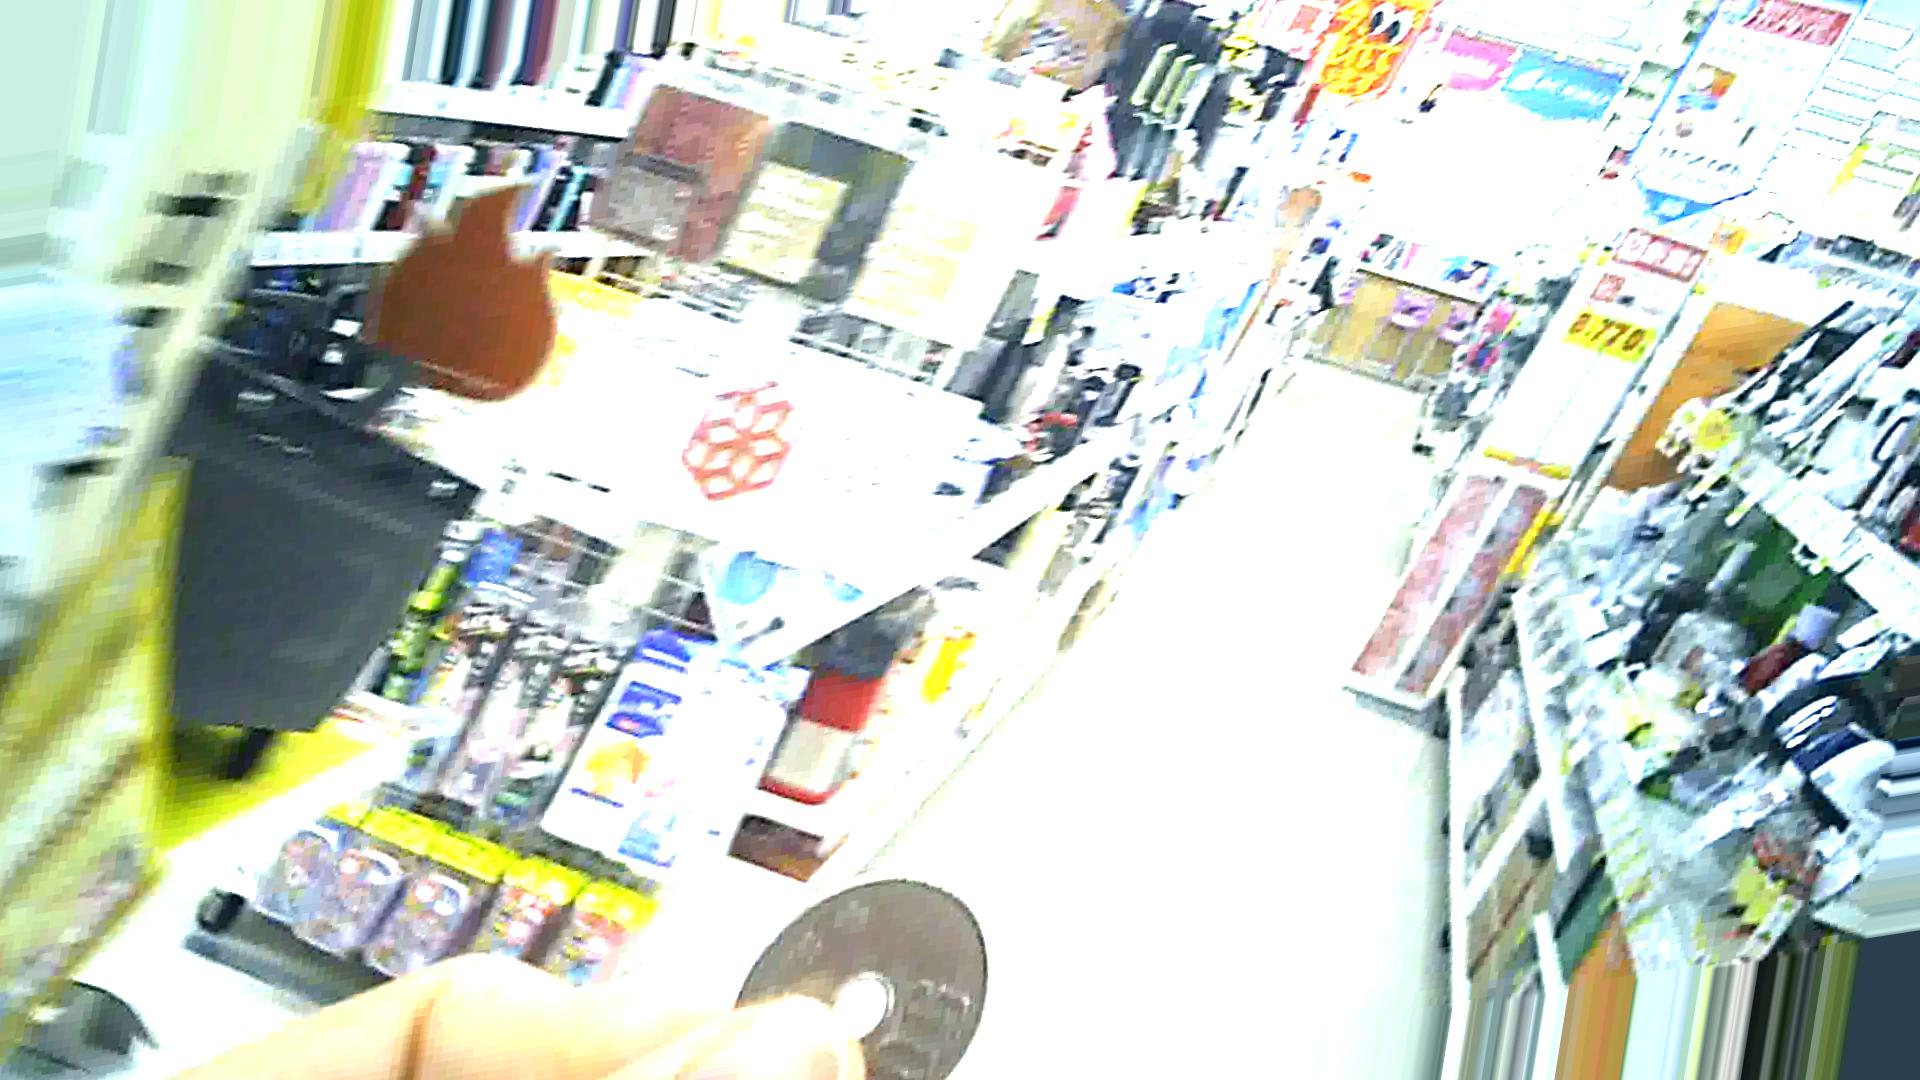50 Yen: (721, 866, 1030, 1075)
